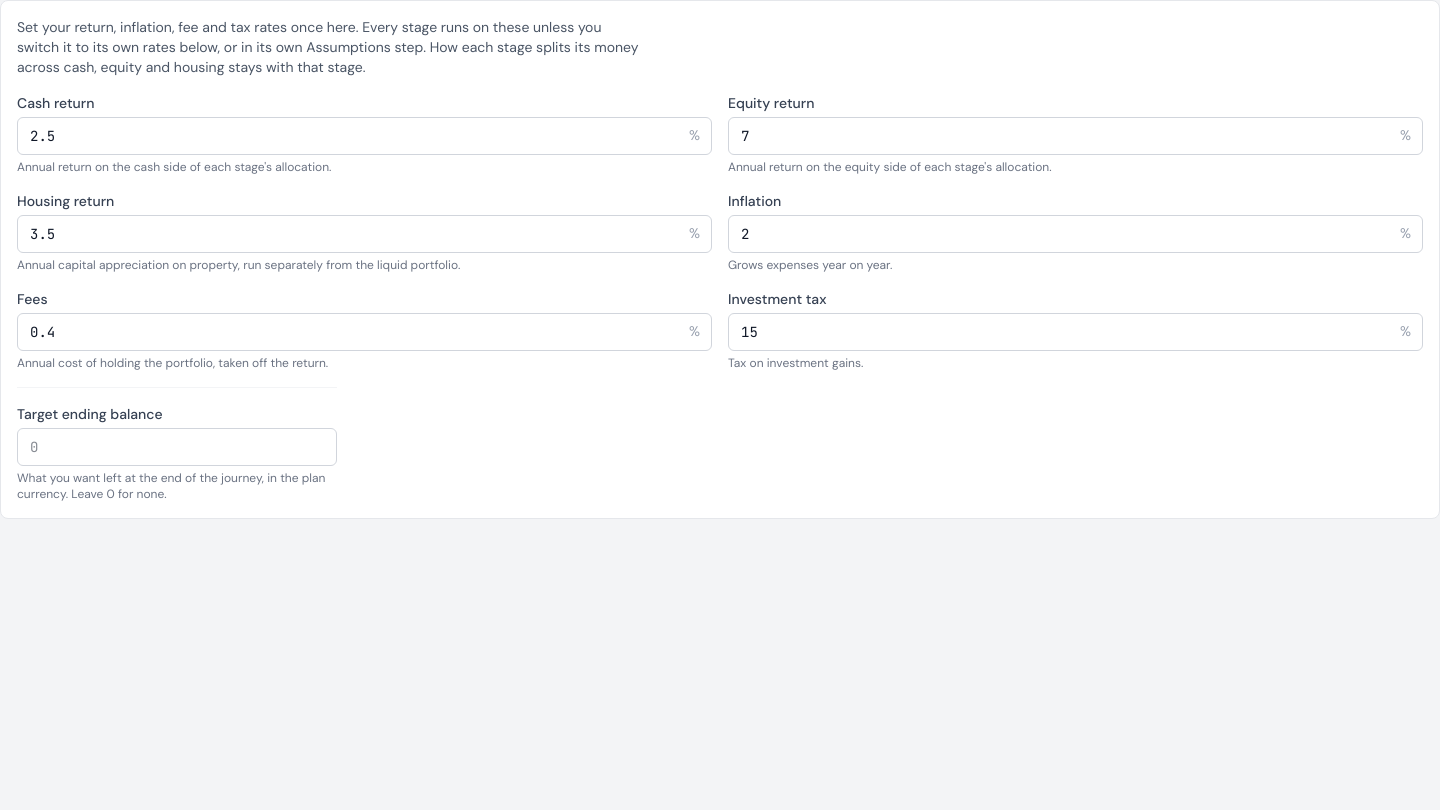
JourneyAssumptionsSection › surfaces the backend's own reason when a save fails
Replace the text in the number field labelled "Fees" with "1". click: (364, 332)
box: [17, 313, 712, 351]
Wait 1000 ms
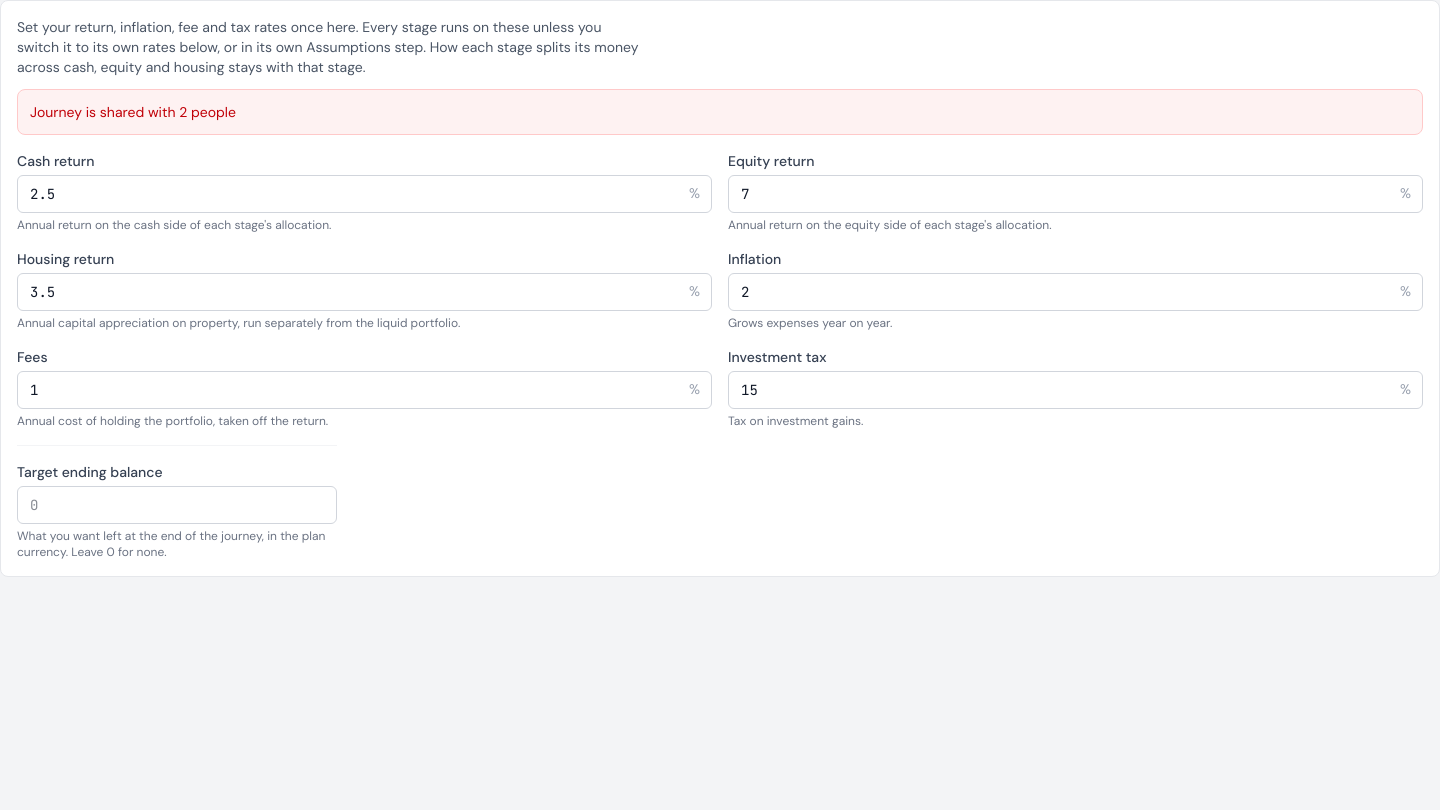
Expected: the text "Journey is shared with 2 people" is shown, [17, 89, 1423, 135]
